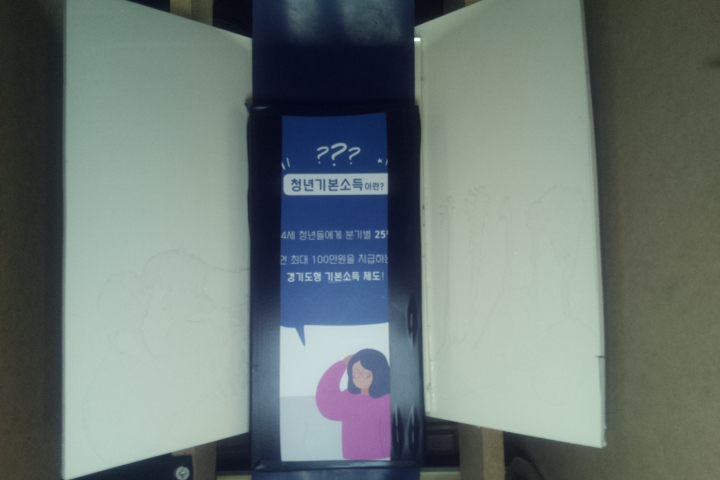book: (247, 100, 421, 472)
